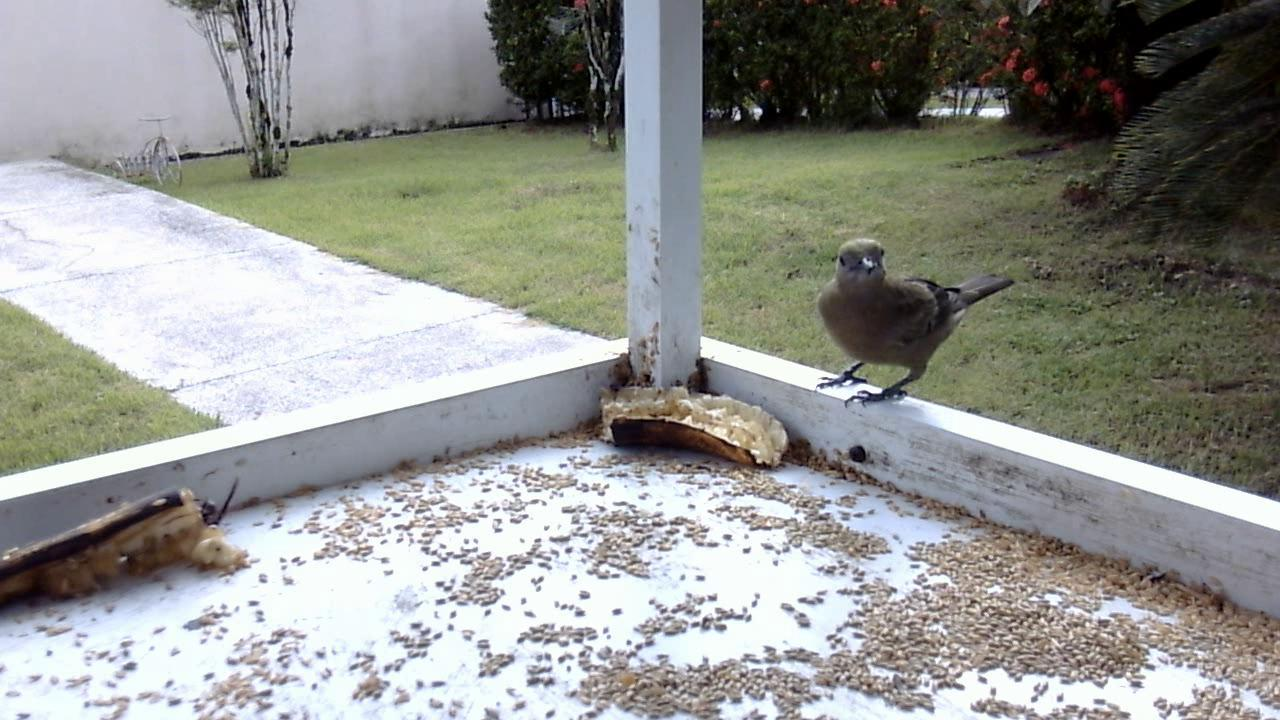sanhaco_do_coqueiro: (810, 236, 1015, 420)
